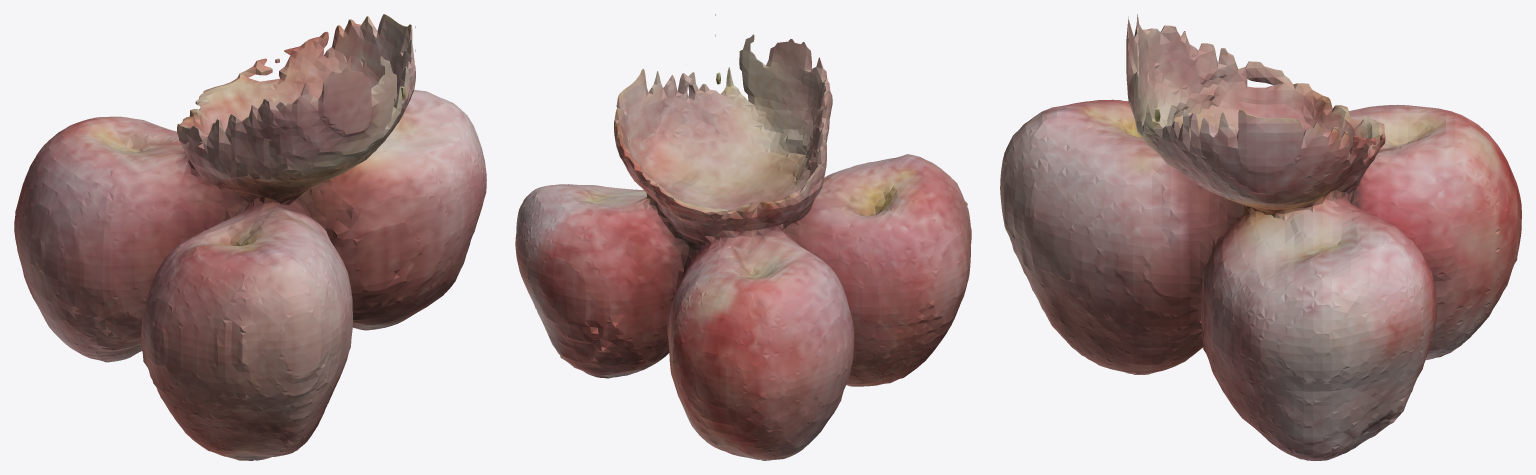
The picture shows the model from 3 angles, left to right: view 1: azimuth 30°, elevation 25°; view 2: azimuth 150°, elevation 25°; view 3: azimuth 270°, elevation 25°; orthographic projection. The views are drawn at different scales.
Visible parts, largest first — view 1: geometry_0; view 2: geometry_0; view 3: geometry_0.
Boxes of the visible parts, x1=… form: geometry_0: x1=14, y1=14, x2=486, y2=460; geometry_0: x1=515, y1=14, x2=971, y2=460; geometry_0: x1=1000, y1=14, x2=1521, y2=460.
Bounding box in the file's own units: 1.74 × 1.55 × 1.81.
